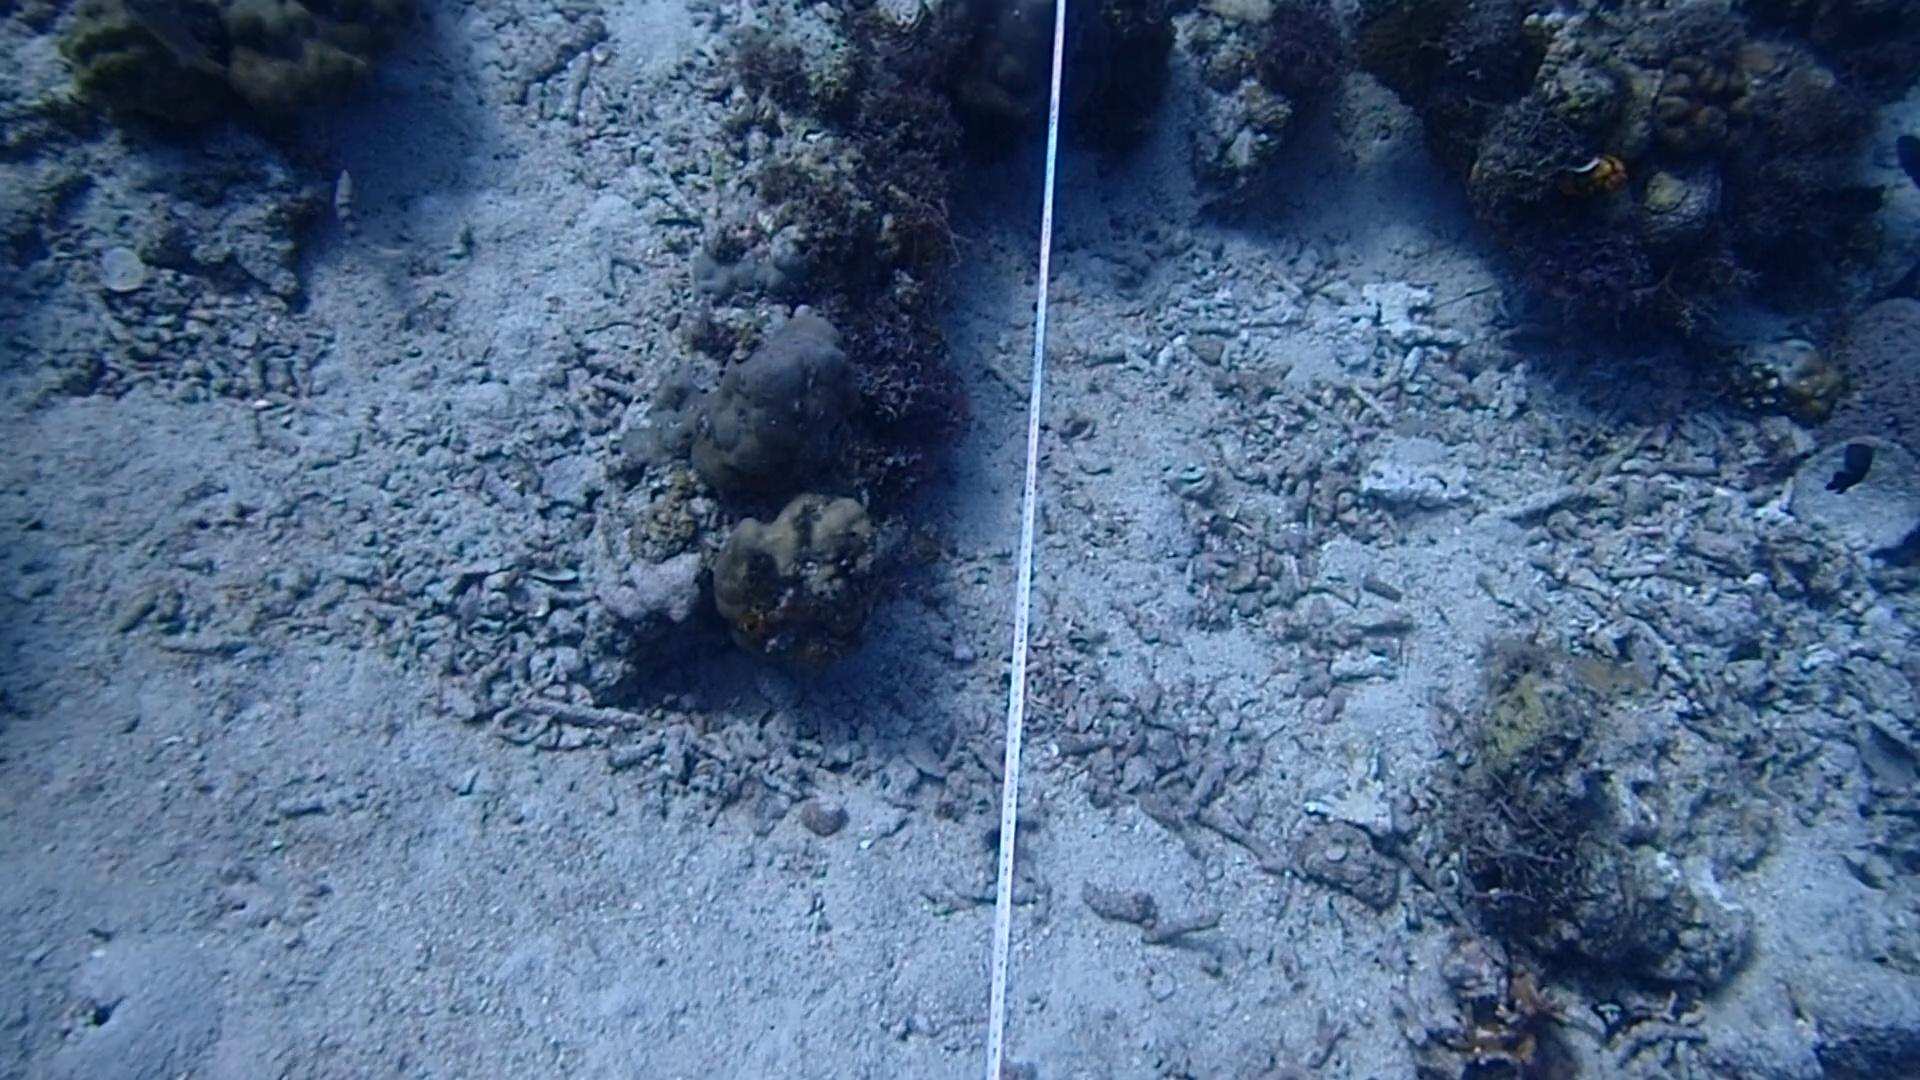Dark Fish: (1818, 430, 1879, 510)
Light Fish w Back Stripes: (320, 165, 419, 272)
